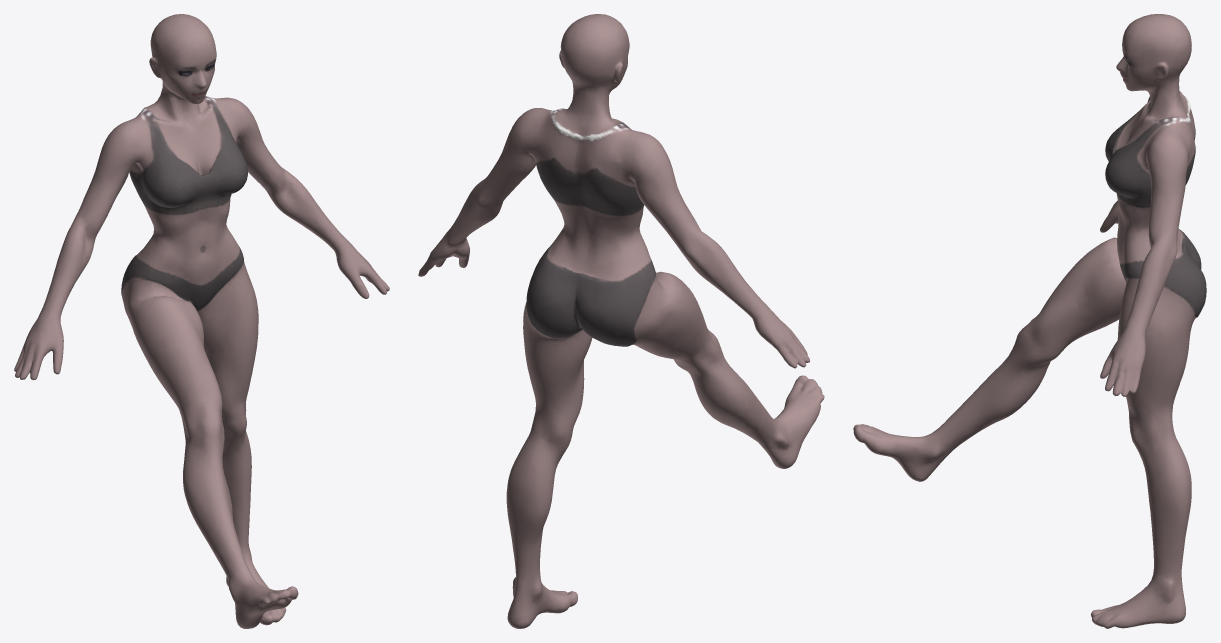
The model's file is regional-ThighL-45.glb.
3 views of the same model, side by side, from view 1: azimuth 30°, elevation 25°; view 2: azimuth 150°, elevation 25°; view 3: azimuth 270°, elevation 25° (orthographic). The views are drawn at different scales.
Visible parts, largest first — view 1: regional-ThighL-45; view 2: regional-ThighL-45; view 3: regional-ThighL-45.
Part boxes in pixels (box(x1,y1,x2,y2)): regional-ThighL-45: box(14, 14, 389, 628); regional-ThighL-45: box(418, 14, 824, 628); regional-ThighL-45: box(853, 14, 1206, 628).
Size of the model in its own units: 0.6509 by 1 by 0.5545.
Materials: 1 (1 with a texture image).
